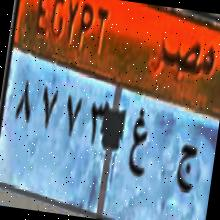3: (84, 96, 108, 152)
7: (60, 88, 84, 146), (35, 84, 60, 135)
8: (11, 76, 36, 130)
ghayn: (123, 105, 157, 191)
jeem: (172, 136, 199, 198)
